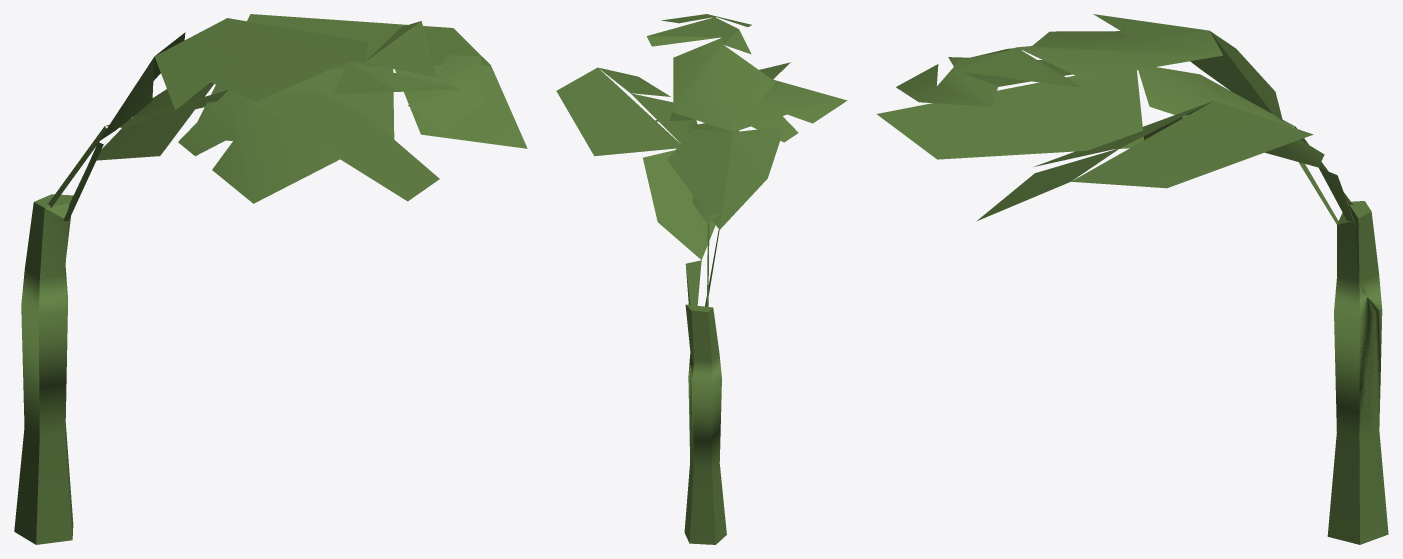
Rendered from Vegetation_Tree_Bamboo_07.fbx.
3 renders of one model, left to right at view 1: azimuth 30°, elevation 25°; view 2: azimuth 150°, elevation 25°; view 3: azimuth 270°, elevation 25°, orthographic. The views are drawn at different scales.
Visible parts, largest first — view 1: Vegetation_Tree_Bamboo_07; view 2: Vegetation_Tree_Bamboo_07; view 3: Vegetation_Tree_Bamboo_07.
Boxes of the visible parts, box(x1,y1,x2,y2) form: Vegetation_Tree_Bamboo_07: box(14, 14, 527, 544); Vegetation_Tree_Bamboo_07: box(556, 14, 847, 544); Vegetation_Tree_Bamboo_07: box(877, 14, 1388, 544).
Size of the model in its own units: 61.49 by 98.46 by 82.25.
